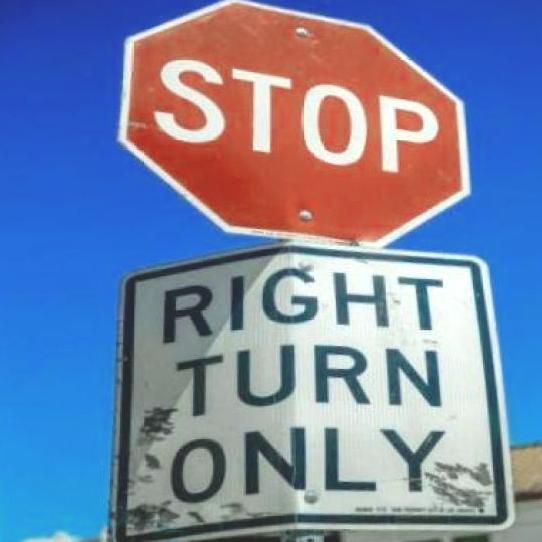stop_sign: (105, 0, 470, 271)
